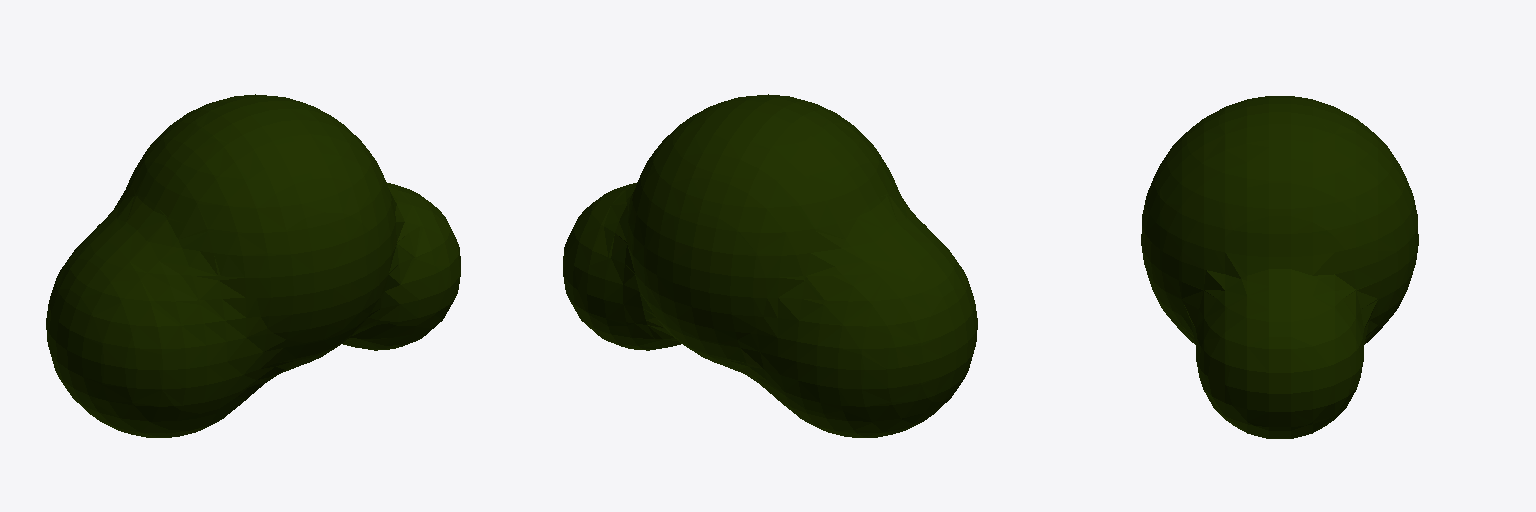
The model's file is tree_leaf.obj.
The picture shows the model from 3 angles: view 1: azimuth 30°, elevation 25°; view 2: azimuth 150°, elevation 25°; view 3: azimuth 270°, elevation 25°; orthographic projection.
Parts seen in each view (by area): view 1: meshes_0_; view 2: meshes_0_; view 3: meshes_0_.
Boxes of the visible parts, x1=… form: meshes_0_: x1=46, y1=94, x2=460, y2=437; meshes_0_: x1=563, y1=94, x2=977, y2=437; meshes_0_: x1=1141, y1=96, x2=1418, y2=438.
Size of the model in its own units: 4.27 by 3.1 by 2.64.